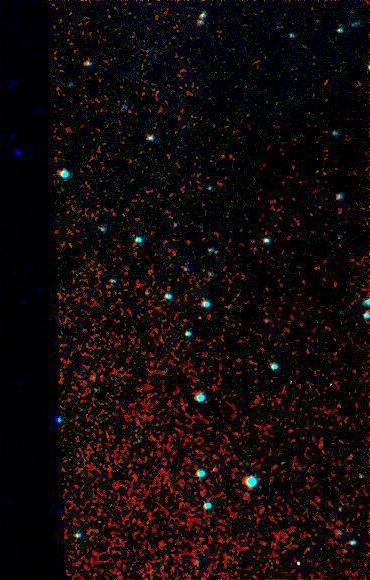star: (284, 548, 314, 578)
